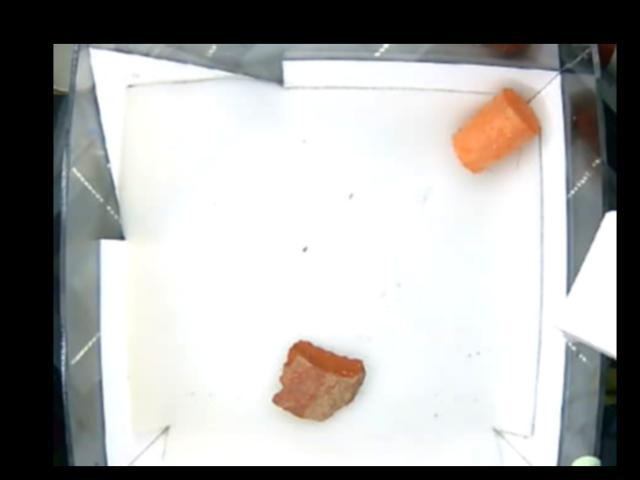Brisk: (269, 340, 364, 423)
Carrot: (450, 86, 540, 175)
